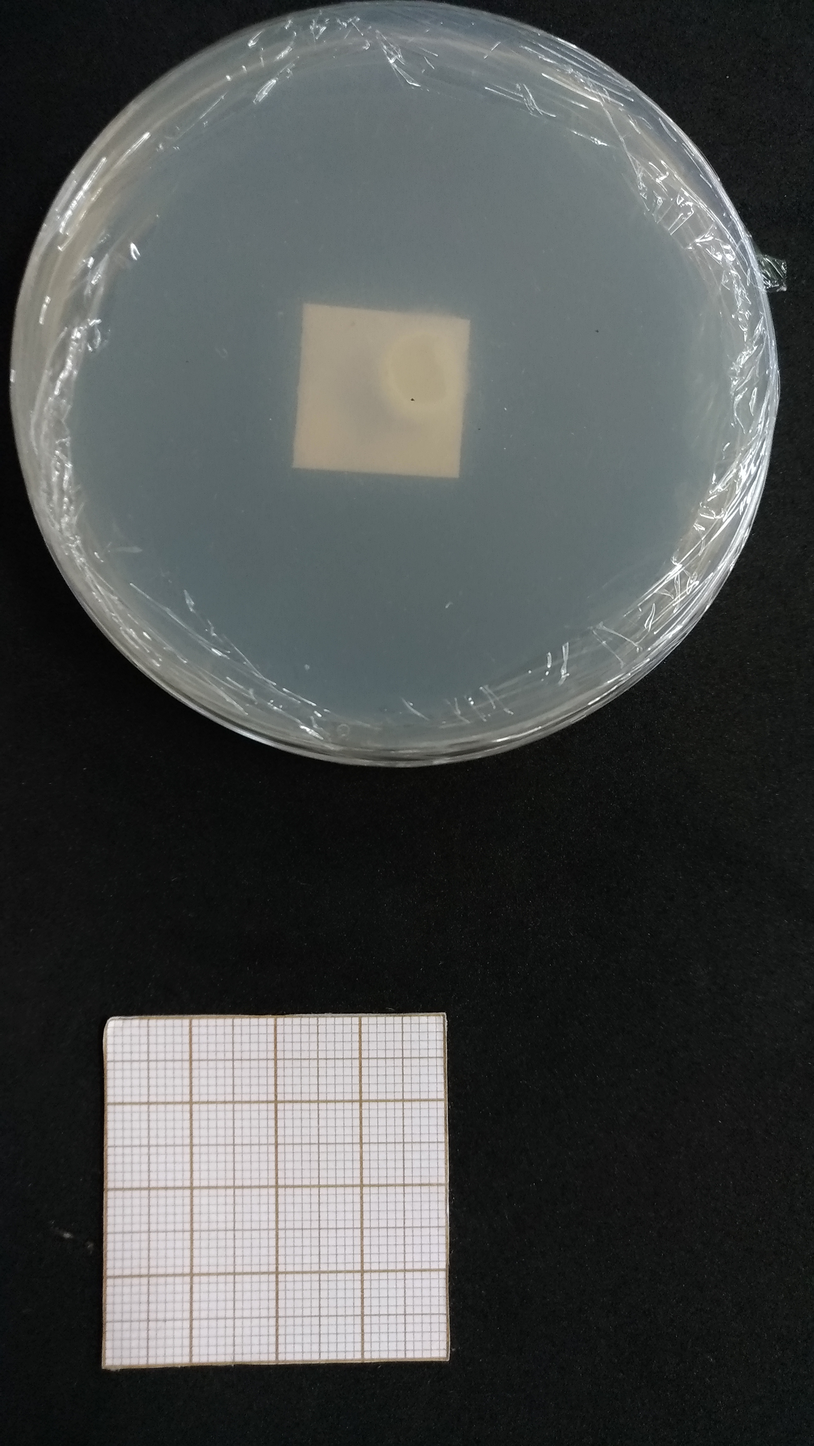escala: (103, 1014, 447, 1369)
fungo: (374, 301, 471, 414)
